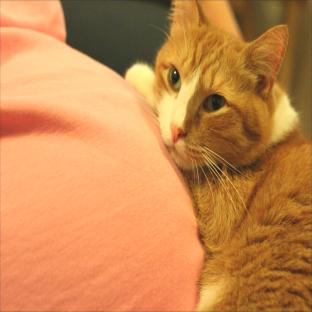Animal: (125, 0, 312, 312)
